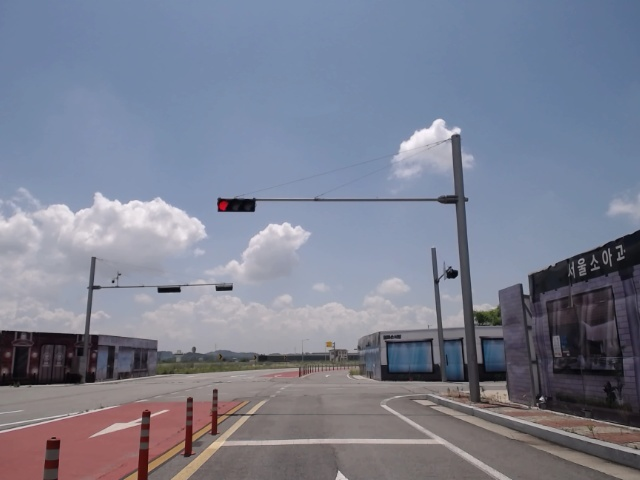red_3: (216, 198, 257, 213)
